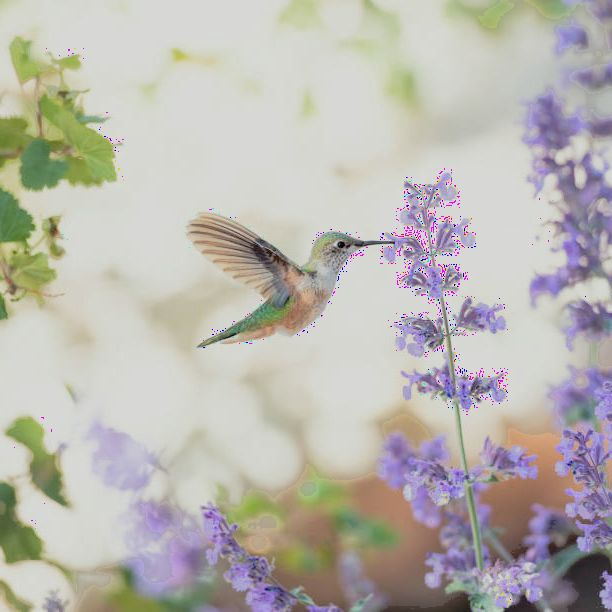Bird: (186, 201, 396, 350)
